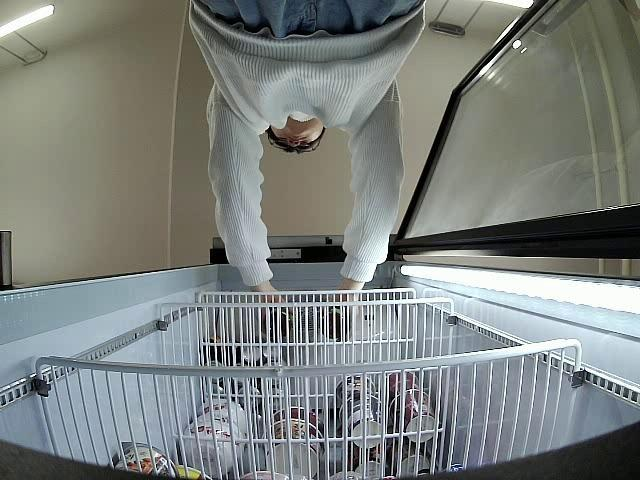19_17cha: (328, 304, 348, 340)
